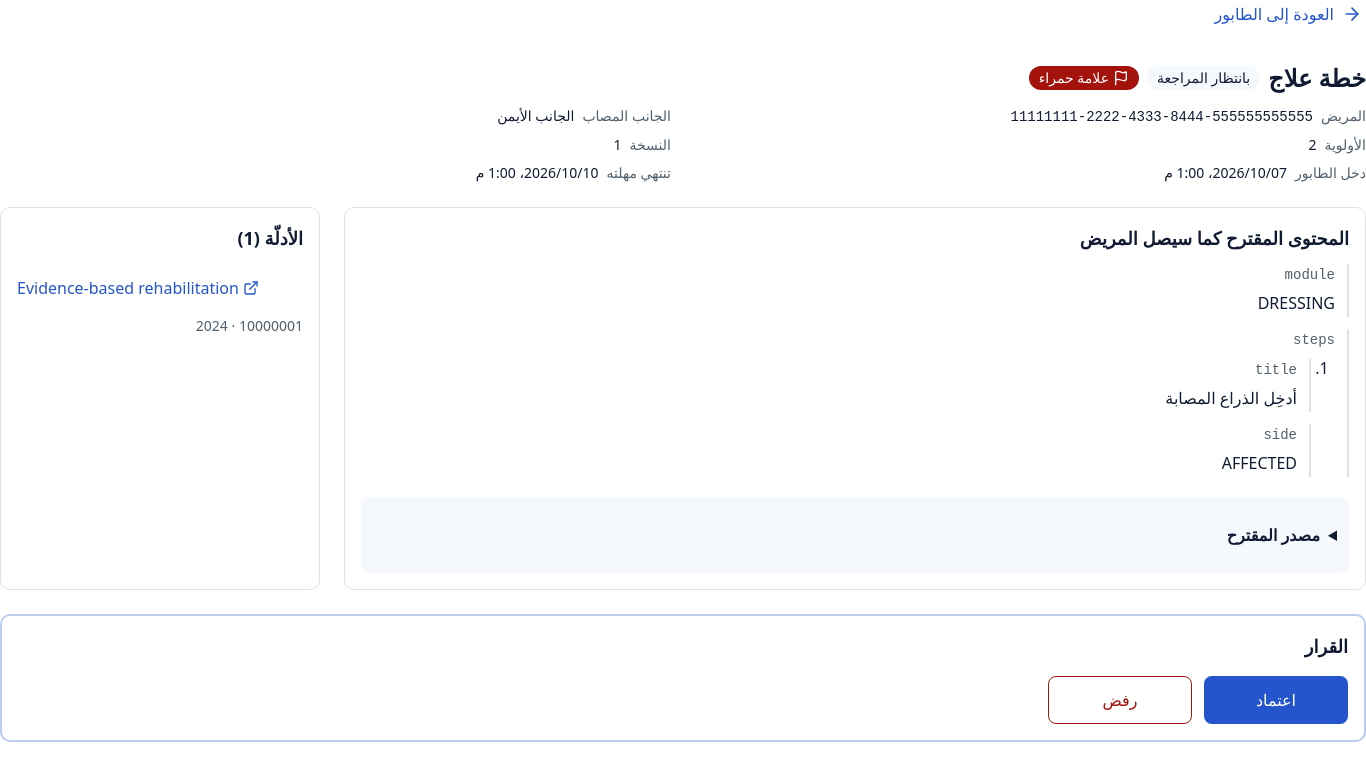
it: صفحة المقترح › رفض الخادم يُعرض ويبقى المقترح مفتوحاً
This screenshot has width=1366, height=758.
Click the button "اعتماد": (1276, 700) [1204,676,1348,724]
(page scrolled)
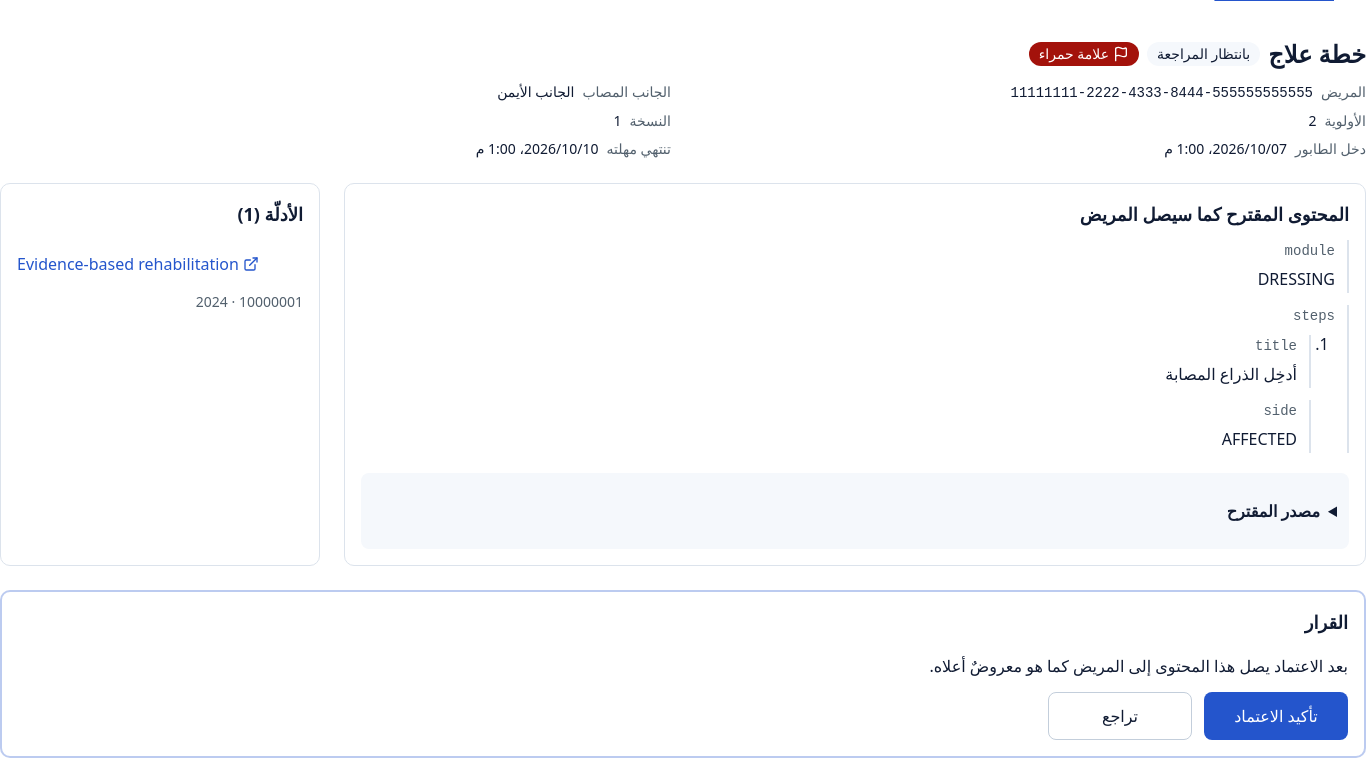
Click the button "تأكيد الاعتماد": (1276, 716) [1204,692,1348,740]
(page scrolled)
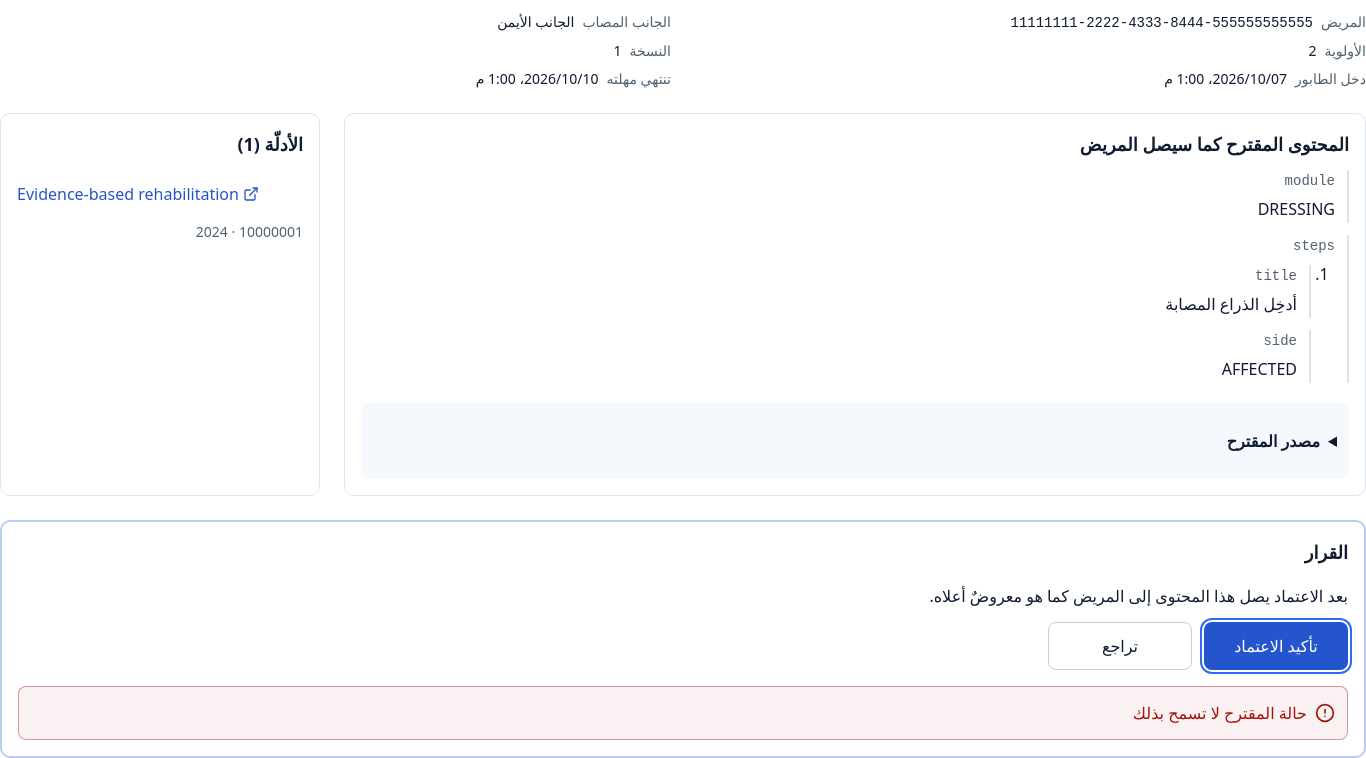
Now the message reads "حالة المقترح لا تسمح بذلك", box [1133,702,1307,724]
